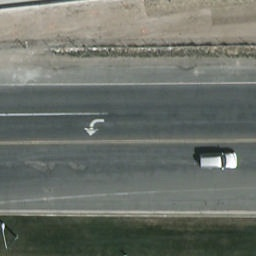car: (198, 152, 240, 171)
